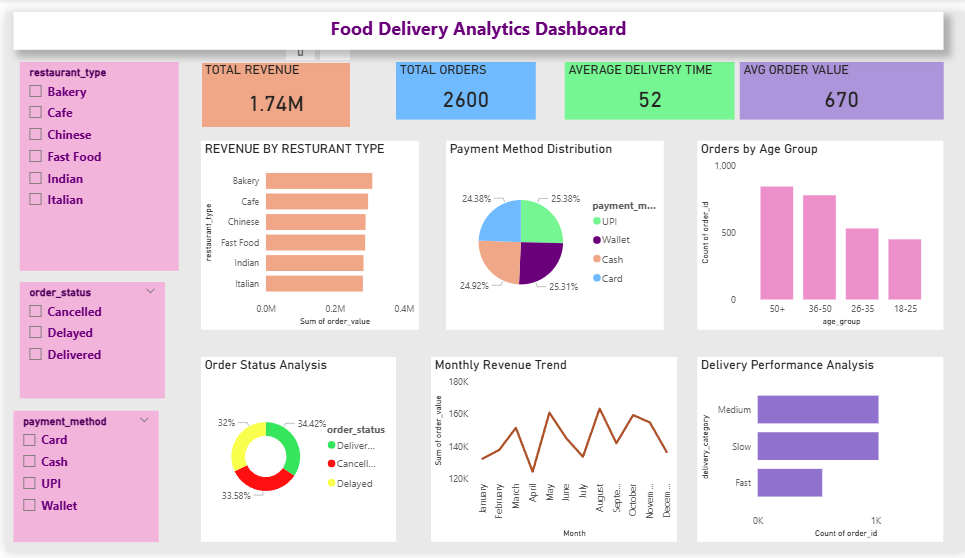

Layout of this report page (visuals, bound fields, positions):
{"tool":"powerbi","page":{"name":"Page 1","canvas":[1280,720],"ordinal":0},"visuals":[{"type":"card","title":"TOTAL REVENUE","fields":{"Values":["Sum(orders_delivery.order_value)"]},"box":[260,66.7,200,88.3],"z":0},{"type":"card","title":"TOTAL ORDERS","fields":{"Values":["CountNonNull(orders_delivery.order_id)"]},"box":[520,66.7,186.7,76.7],"z":1000},{"type":"card","title":"AVERAGE DELIVERY TIME","fields":{"Values":["Avg(orders_delivery.delivery_time_minutes)"]},"box":[745,66.7,226.7,76.7],"z":2000},{"type":"card","title":"AVG ORDER VALUE","fields":{"Values":["Avg(orders_delivery.order_value)"]},"box":[978.3,66.7,271.7,76.7],"z":3000},{"type":"clusteredBarChart","title":"REVENUE BY RESTURANT TYPE","fields":{"Category":["orders_delivery.restaurant_type"],"Y":["Sum(orders_delivery.order_value)"]},"box":[260,171.7,290,251.7],"z":4000},{"type":"pieChart","title":"Payment Method Distribution","fields":{"Category":["orders_delivery.payment_method"],"Y":["CountNonNull(orders_delivery.order_id)"]},"box":[586.7,171.7,290,251.7],"z":5000},{"type":"donutChart","title":"Order Status Analysis","fields":{"Category":["orders_delivery.order_status"],"Y":["CountNonNull(orders_delivery.order_id)"]},"box":[260,460,260,246.7],"z":6000},{"type":"clusteredColumnChart","title":"Orders by Age Group","fields":{"Category":["orders_delivery.age_group"],"Y":["CountNonNull(orders_delivery.order_id)"]},"box":[921.7,171.7,328.3,251.7],"z":7000},{"type":"lineChart","title":"Monthly Revenue Trend","fields":{"Category":["orders_delivery.order_date.Variation.Date Hierarchy.Month"],"Y":["Sum(orders_delivery.order_value)"]},"box":[566.7,460,328.3,246.7],"z":8000},{"type":"clusteredBarChart","title":"Delivery Performance Analysis","fields":{"Category":["orders_delivery.delivery_category"],"Y":["CountNonNull(orders_delivery.order_id)"]},"box":[921.7,460,328.3,246.7],"z":9000},{"type":"slicer","fields":{"Values":["orders_delivery.restaurant_type"]},"box":[18.3,66.7,211.7,278.3],"z":10000},{"type":"slicer","fields":{"Values":["orders_delivery.payment_method"]},"box":[10,531.7,193.3,175],"z":11000},{"type":"slicer","fields":{"Values":["orders_delivery.order_status"]},"box":[18.3,360,193.3,155],"z":12000},{"type":"textbox","box":[10,0,1240,50],"z":13000}]}

Visuals, with their boxes in screenshot pixels (x1, y1, x2, y2), scaled from the page's 1280x720 canvas onto the 965x558 screenshot:
"TOTAL REVENUE" card: 196/52/347/120
"TOTAL ORDERS" card: 392/52/533/111
"AVERAGE DELIVERY TIME" card: 562/52/733/111
"AVG ORDER VALUE" card: 738/52/942/111
"REVENUE BY RESTURANT TYPE" clusteredBarChart: 196/133/415/328
"Payment Method Distribution" pieChart: 442/133/661/328
"Order Status Analysis" donutChart: 196/356/392/548
"Orders by Age Group" clusteredColumnChart: 695/133/942/328
"Monthly Revenue Trend" lineChart: 427/356/675/548
"Delivery Performance Analysis" clusteredBarChart: 695/356/942/548
slicer - orders_delivery.restaurant_type: 14/52/173/267
slicer - orders_delivery.payment_method: 8/412/153/548
slicer - orders_delivery.order_status: 14/279/160/399
textbox: 8/0/942/39
